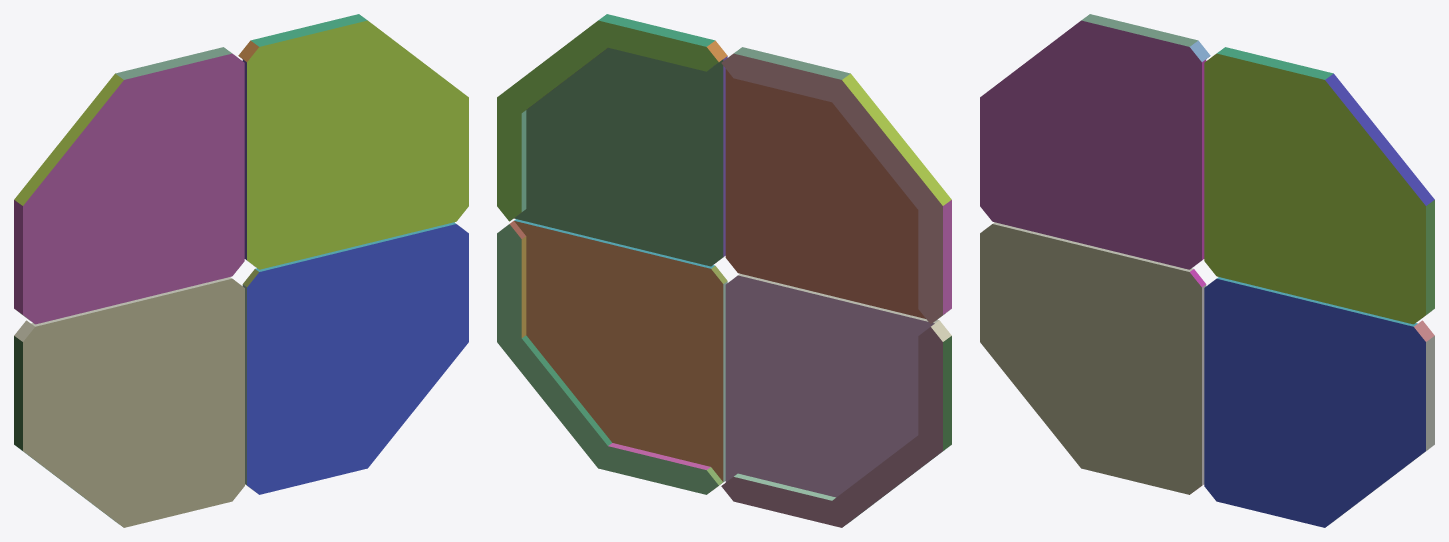
Rendered from module-stagger-02.glb.
3 views of the same model, side by side, from view 1: azimuth 30°, elevation 25°; view 2: azimuth 150°, elevation 25°; view 3: azimuth 330°, elevation 25° (orthographic).
Bounding box in the file's own units: 1.19 × 1.15 × 0.0412.
